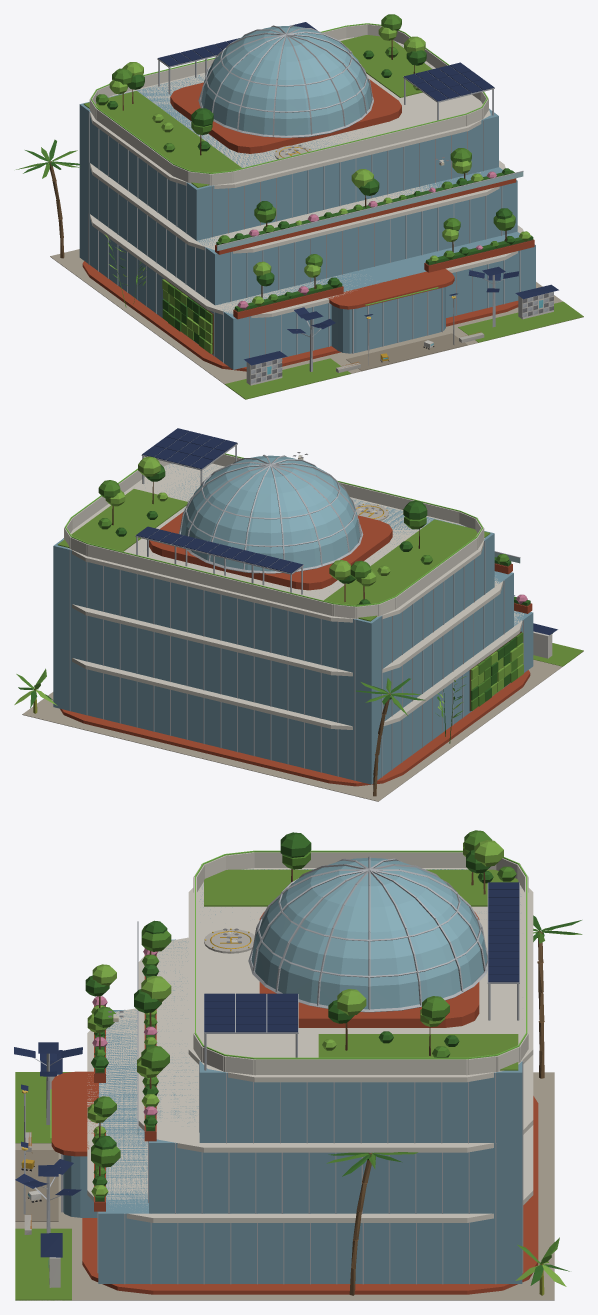
Rendered from shop_5.glb.
3 renders of one model, top to bottom at view 1: azimuth 30°, elevation 25°; view 2: azimuth 150°, elevation 25°; view 3: azimuth 270°, elevation 25°, orthographic. The views are drawn at different scales.
Visible parts, largest first — view 1: body, windows; view 2: body, windows; view 3: body, windows.
Part boxes in pixels (bbox=[...]): body: bbox=[16, 14, 583, 399]; windows: bbox=[90, 23, 543, 374]; body: bbox=[14, 428, 583, 801]; windows: bbox=[65, 453, 552, 633]; body: bbox=[14, 830, 582, 1300]; windows: bbox=[21, 850, 527, 1267].
Bounding box in the file's own units: 37.01 × 20.78 × 33.73.
